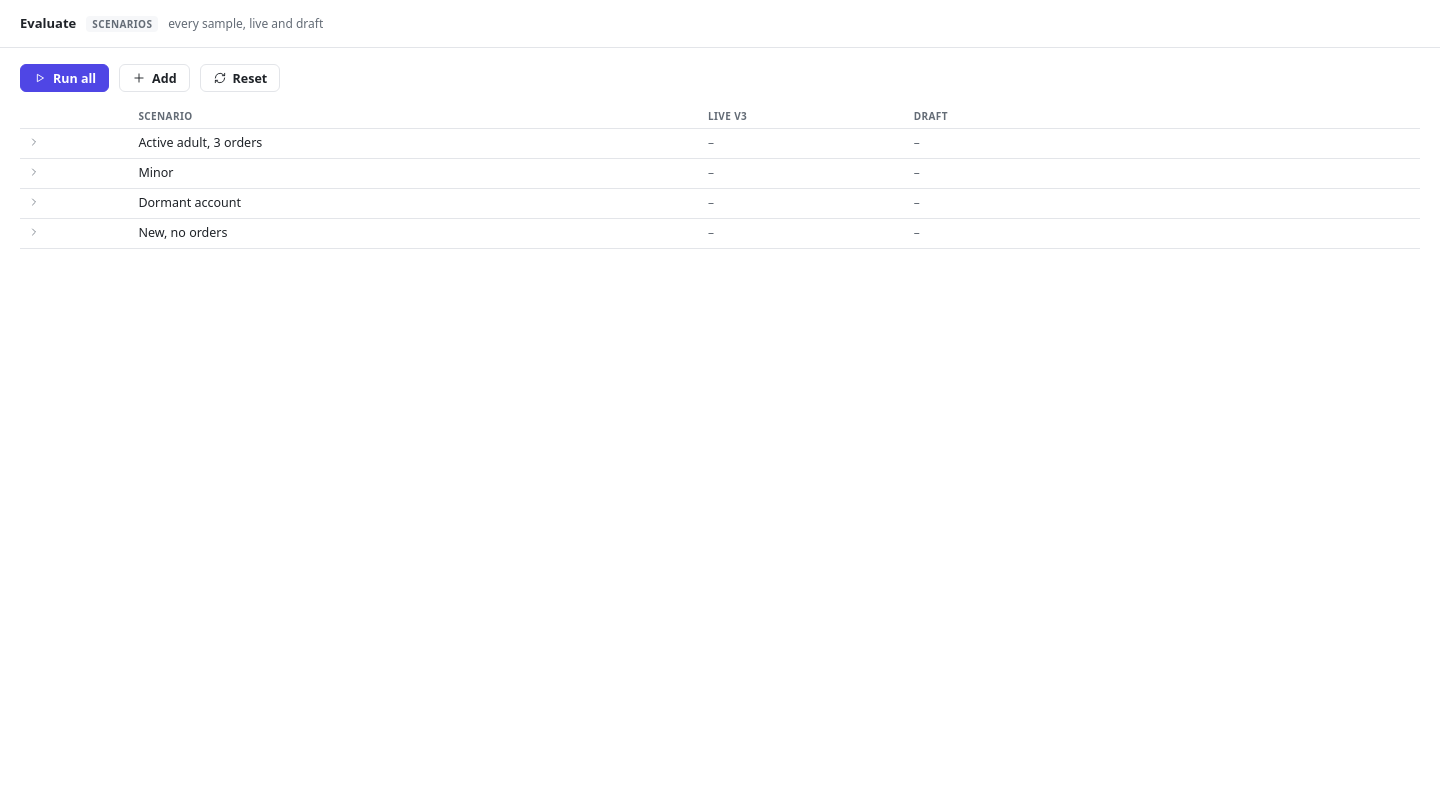
Test case: ScenarioPane › adds two scenarios from two quick clicks
The width and height of the screenshot is (1440, 810).
Click the button "Add" at (154, 78), box left=119, top=64, right=190, bottom=92
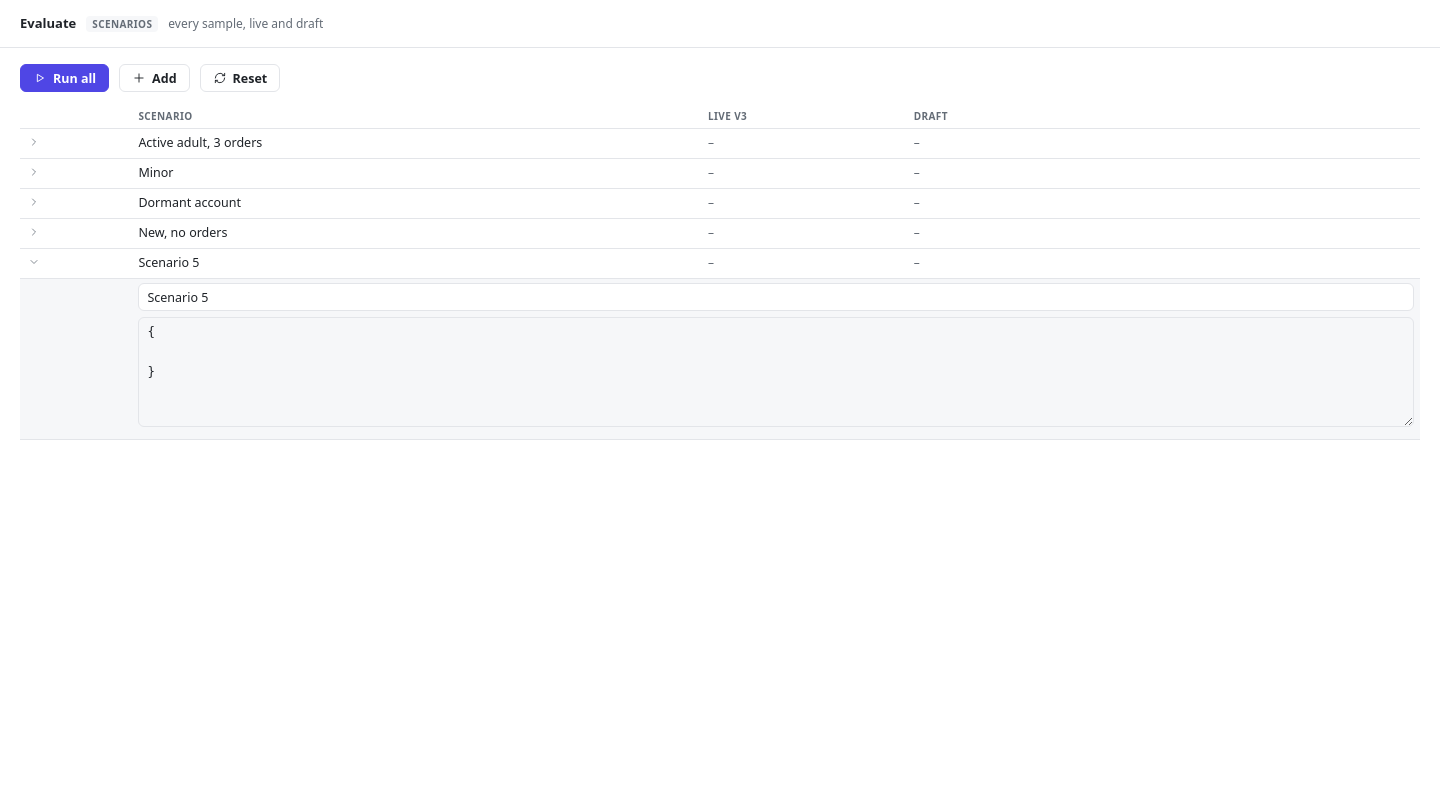
Click the button "Add" at (154, 78), box left=119, top=64, right=190, bottom=92
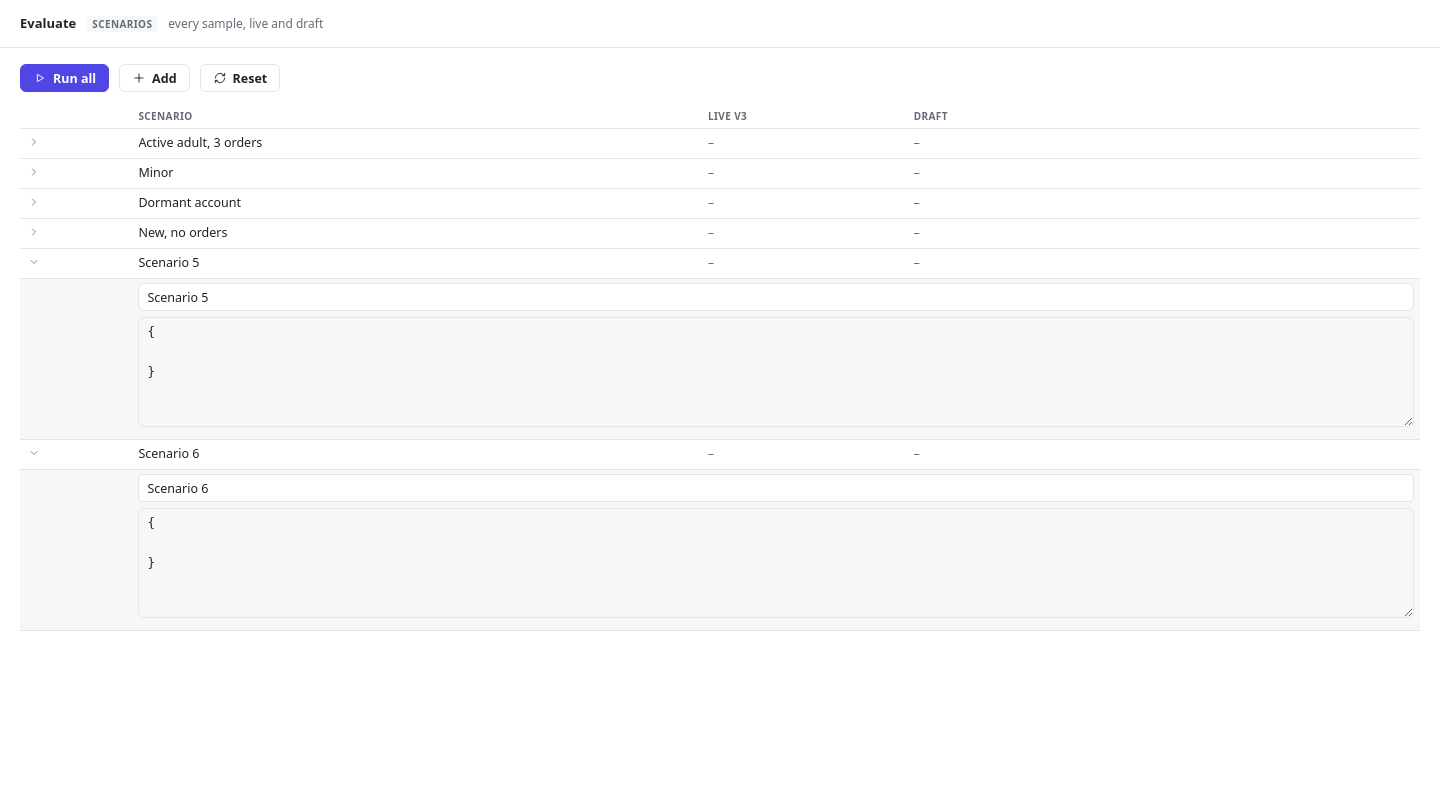
Now the row "Scenario 5" is shown, box left=20, top=248, right=1420, bottom=278
Now the row "Scenario 6" is shown, box left=20, top=440, right=1420, bottom=470
